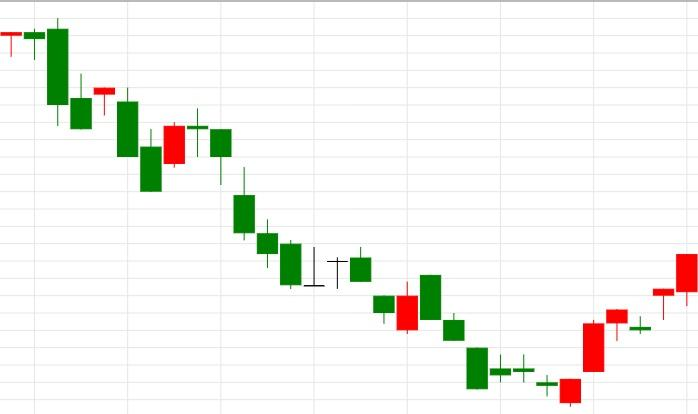bullish_engulfing_rise: (327, 246, 419, 334)
three_white_soldiers_rise: (419, 275, 629, 407)
